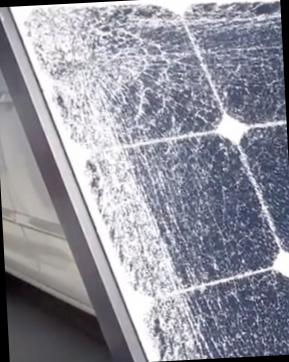Crack: (0, 0, 273, 144), (56, 140, 211, 282), (66, 280, 229, 361)
